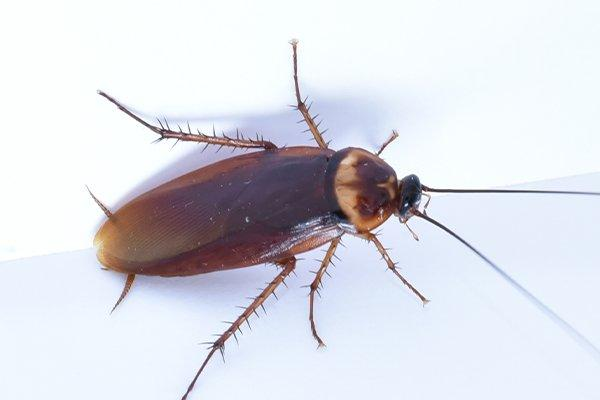cockroach: (82, 132, 438, 294)
